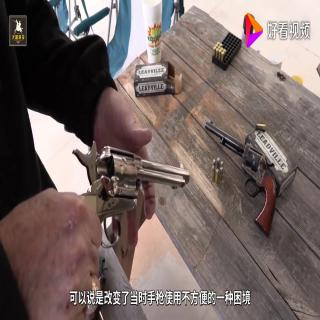gun: (25, 130, 199, 304), (204, 115, 278, 236)
